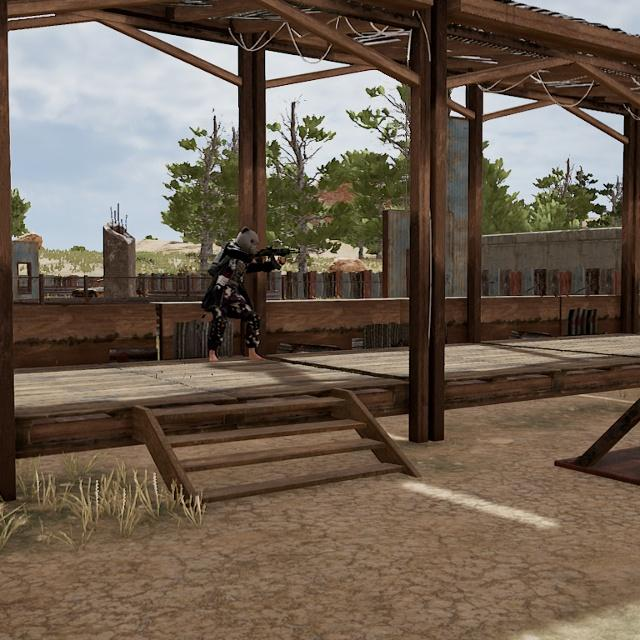head: (235, 228, 260, 254)
people: (204, 227, 273, 363)
